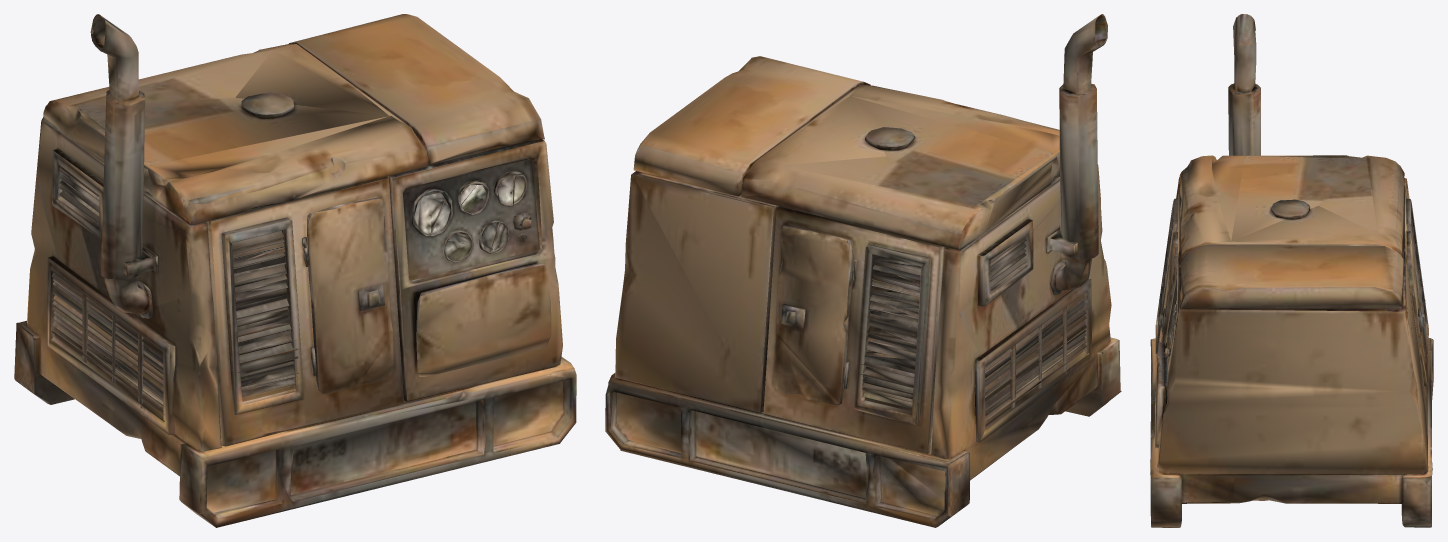
Rendered from generator.glb.
3 views of the same model, side by side, from view 1: azimuth 30°, elevation 25°; view 2: azimuth 150°, elevation 25°; view 3: azimuth 270°, elevation 25° (orthographic). The views are drawn at different scales.
Bounding box in the file's own units: 0.8628 × 0.9492 × 0.666.
Materials: 1 (1 with a texture image).
